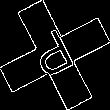P_SE: (27, 24, 83, 86)
